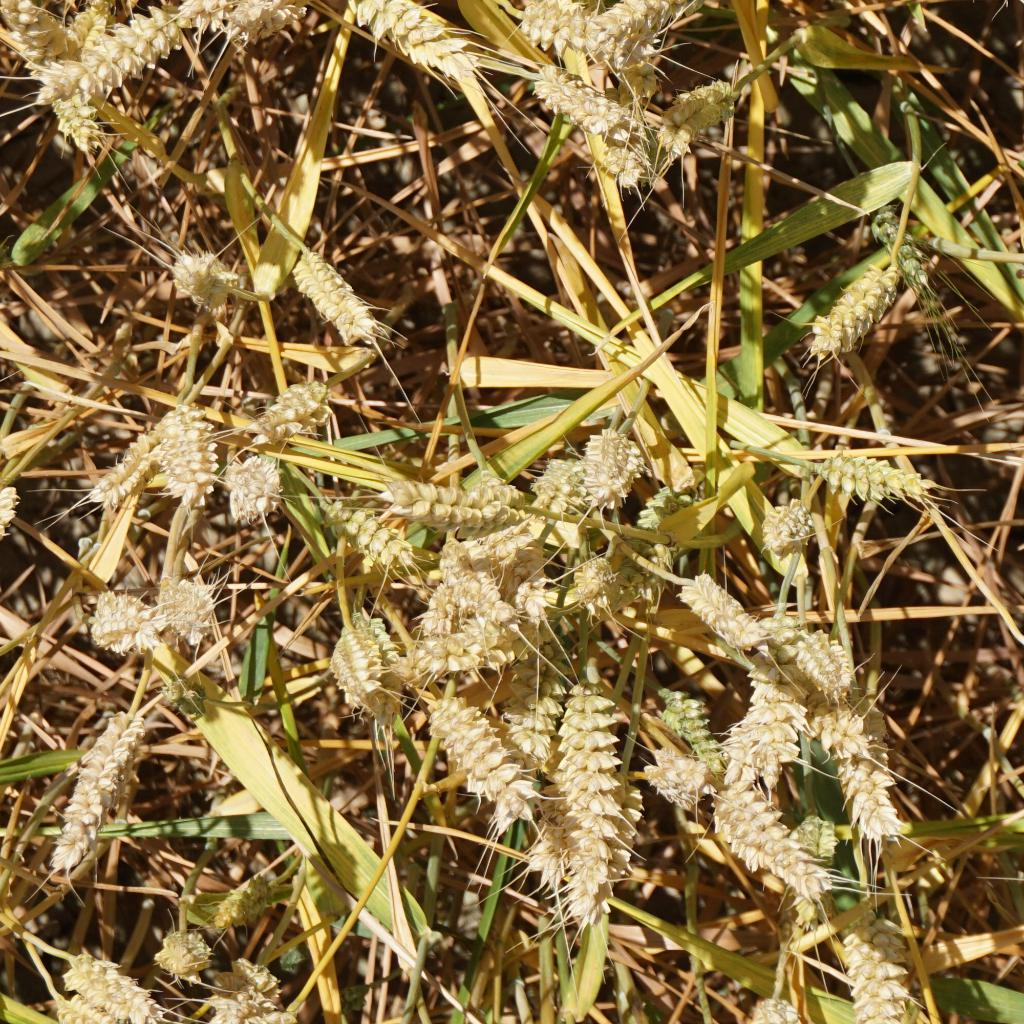0-0: (541, 671, 618, 905), (689, 768, 823, 901), (556, 756, 651, 940), (47, 716, 153, 876), (415, 684, 528, 820), (316, 595, 415, 727), (332, 621, 430, 750), (838, 893, 932, 1024), (334, 0, 464, 83), (523, 740, 592, 890), (285, 244, 374, 349), (528, 55, 627, 146), (719, 671, 793, 782), (384, 464, 507, 530), (807, 436, 927, 502), (795, 265, 891, 347), (41, 67, 118, 160), (492, 675, 559, 780), (793, 809, 847, 938), (674, 564, 758, 645), (851, 201, 930, 285), (49, 0, 135, 77), (403, 617, 507, 679), (584, 419, 654, 507), (59, 951, 160, 1011), (152, 406, 216, 500), (86, 12, 175, 79), (250, 372, 336, 439), (328, 493, 411, 557), (735, 595, 793, 685), (592, 0, 716, 41), (443, 560, 513, 631), (152, 577, 221, 648), (658, 679, 718, 759), (836, 755, 897, 833), (671, 68, 736, 139), (211, 446, 280, 512), (647, 733, 705, 810), (167, 244, 237, 307), (156, 925, 219, 994), (796, 620, 860, 687), (0, 0, 72, 59), (213, 876, 286, 934), (751, 486, 812, 550), (446, 523, 534, 567), (102, 592, 157, 662), (472, 457, 543, 510), (151, 667, 218, 722), (91, 439, 153, 497), (507, 566, 568, 623), (213, 955, 270, 1015), (508, 0, 584, 44), (566, 550, 620, 611), (0, 475, 28, 587), (816, 704, 873, 759), (643, 469, 696, 527), (47, 987, 119, 1024), (597, 132, 647, 183), (230, 0, 295, 36), (752, 989, 805, 1024), (411, 581, 443, 631)
